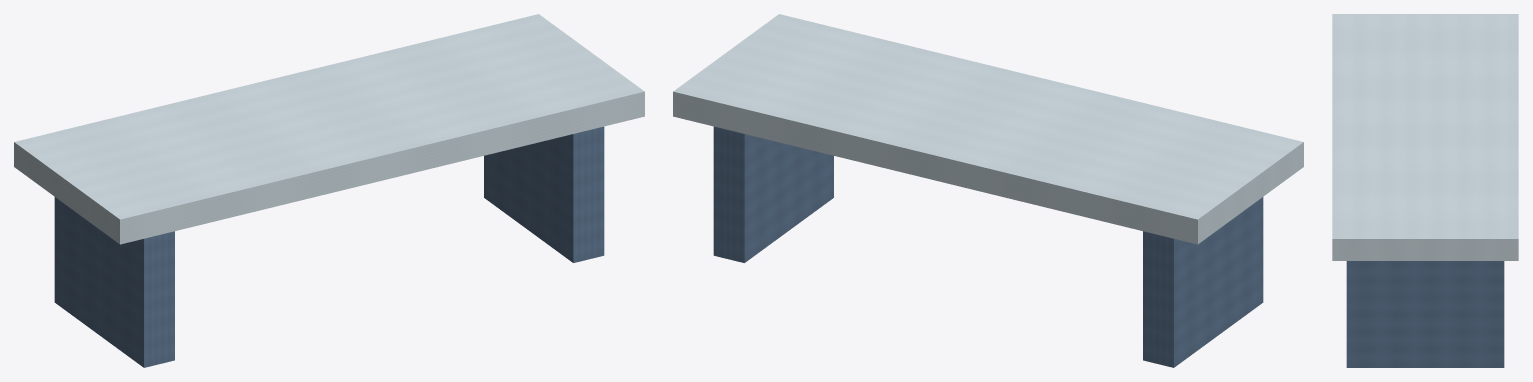
The model's file is atlas100-polar-util03.lod2.glb.
The picture shows the model from 3 angles, left to right: view 1: azimuth 30°, elevation 25°; view 2: azimuth 150°, elevation 25°; view 3: azimuth 270°, elevation 25°; orthographic projection. The views are drawn at different scales.
Parts seen in each view (by area): view 1: atlas100-polar-util03:part-002, atlas100-polar-util03:part-000, atlas100-polar-util03:part-001; view 2: atlas100-polar-util03:part-002, atlas100-polar-util03:part-000, atlas100-polar-util03:part-001; view 3: atlas100-polar-util03:part-002, atlas100-polar-util03:part-001.
Boxes of the visible parts, <box> form: atlas100-polar-util03:part-002: <box>14,14,644,244</box>; atlas100-polar-util03:part-000: <box>54,197,174,367</box>; atlas100-polar-util03:part-001: <box>484,126,604,262</box>; atlas100-polar-util03:part-002: <box>673,14,1303,244</box>; atlas100-polar-util03:part-000: <box>1143,197,1263,367</box>; atlas100-polar-util03:part-001: <box>713,126,833,262</box>; atlas100-polar-util03:part-002: <box>1332,14,1518,260</box>; atlas100-polar-util03:part-001: <box>1346,261,1504,367</box>.
Size of the model in its own units: 2.25 by 0.665 by 0.7877.
2 materials, 2 textured.
